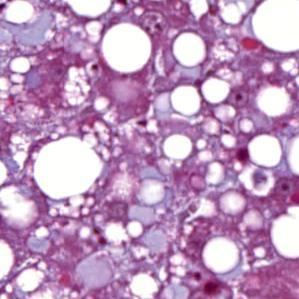steatosis: (102, 21, 154, 75), (200, 235, 244, 277)
